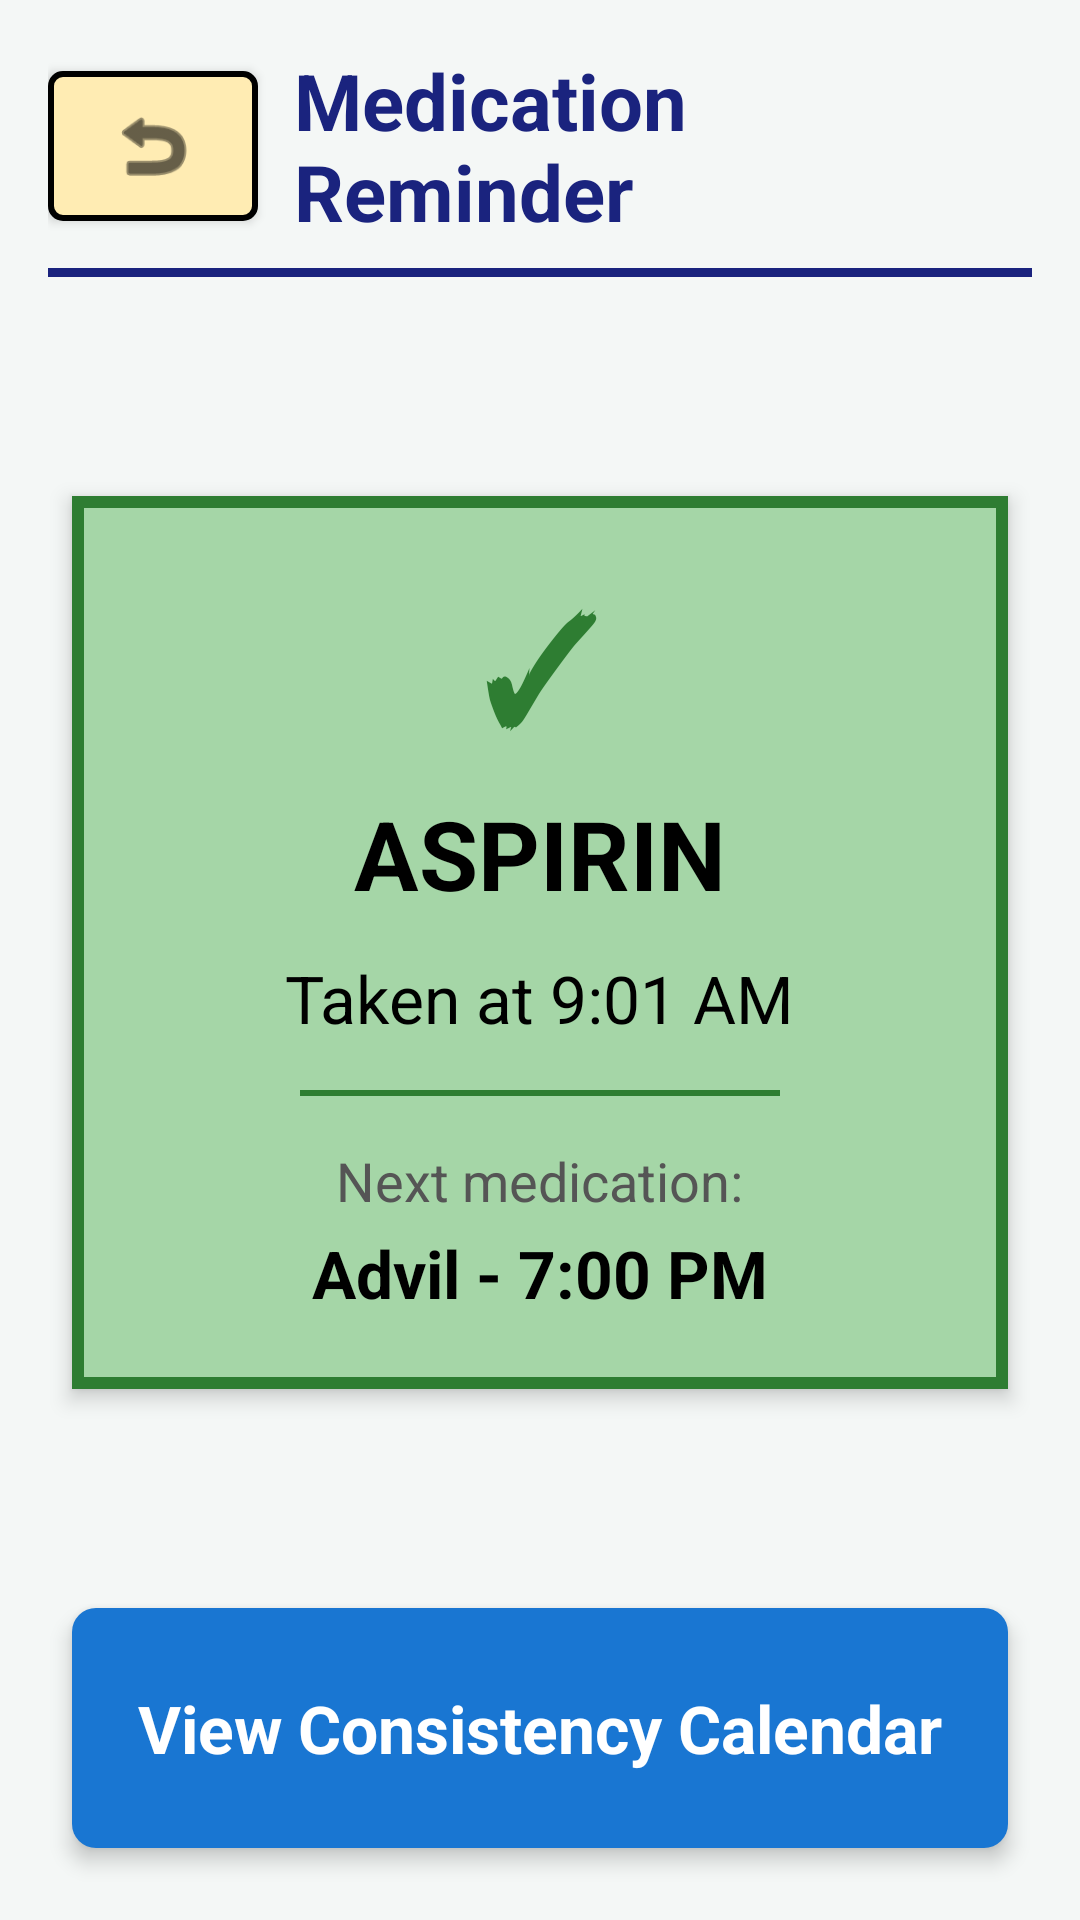

Named icons in this screenshot (1080×1920) and their centers, [x,y]:
revert: [154,146]
